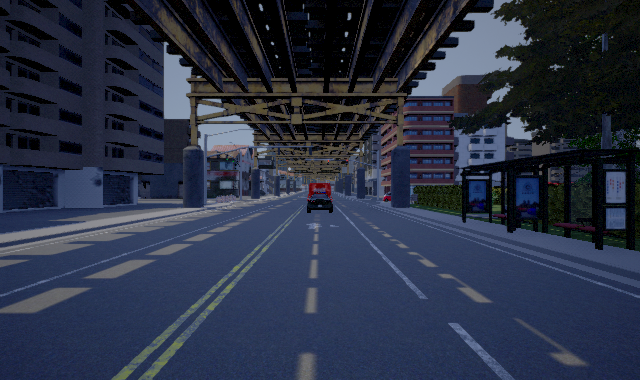vehicle: (307, 183, 333, 213)
